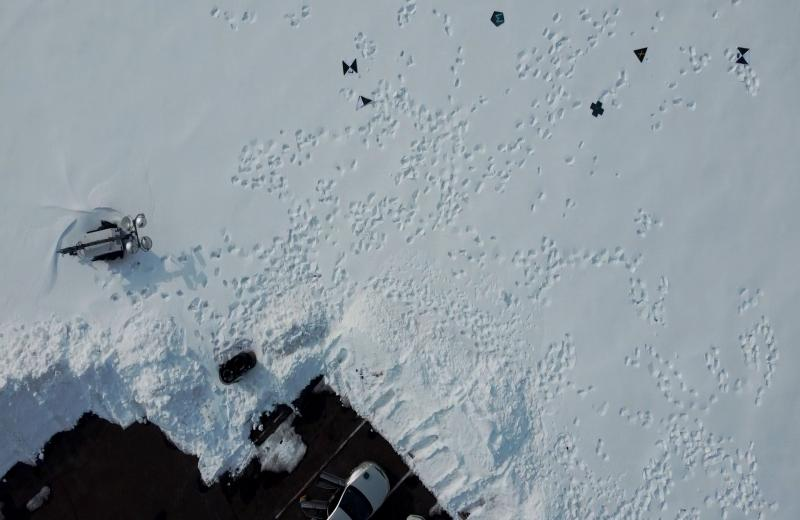Cross: (588, 100, 606, 118)
Pentagon: (490, 10, 505, 28)
Triangle: (632, 47, 650, 63)
